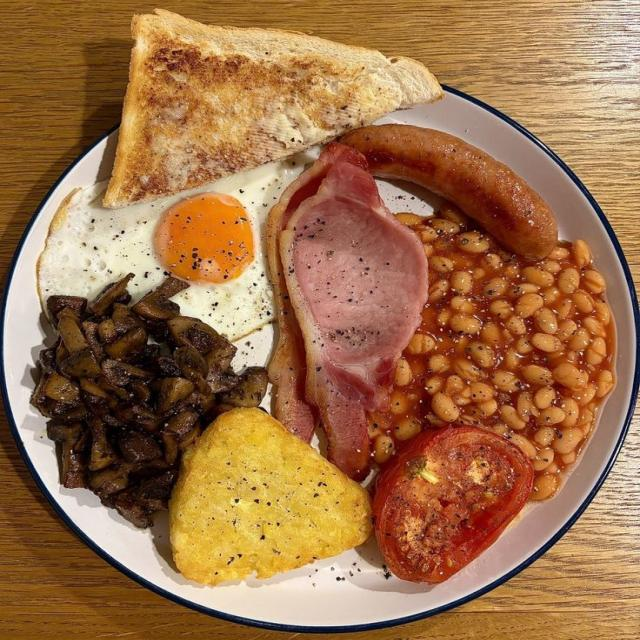beacon: (269, 144, 427, 479), (267, 180, 316, 442)
beans: (370, 206, 613, 499), (553, 363, 587, 390), (552, 427, 583, 454), (432, 393, 459, 422), (454, 358, 485, 382), (530, 473, 557, 500), (510, 434, 537, 460), (468, 342, 495, 368), (515, 293, 543, 317), (521, 365, 553, 386), (440, 204, 469, 227), (458, 232, 489, 253), (449, 314, 481, 334), (491, 370, 520, 392), (534, 308, 558, 334), (374, 434, 394, 464), (394, 418, 421, 440), (522, 267, 553, 286), (532, 333, 561, 353), (585, 338, 606, 365), (407, 334, 435, 354), (567, 327, 591, 350), (394, 358, 413, 386), (480, 323, 503, 346), (451, 271, 473, 295), (558, 268, 579, 293), (574, 383, 596, 406), (583, 270, 605, 293), (428, 279, 449, 303), (561, 398, 579, 426), (596, 370, 614, 398), (538, 407, 565, 425), (573, 240, 591, 267), (516, 392, 534, 419), (533, 448, 554, 471), (555, 320, 578, 341), (507, 283, 539, 298), (534, 387, 555, 409), (444, 375, 466, 396), (583, 317, 606, 337), (471, 382, 494, 402), (573, 290, 593, 313), (390, 391, 410, 414), (483, 278, 507, 297), (430, 218, 460, 233), (489, 300, 513, 318), (594, 301, 611, 326), (576, 409, 593, 434), (534, 427, 555, 447), (451, 296, 475, 313), (429, 256, 453, 273), (506, 316, 526, 336), (541, 286, 560, 306), (429, 355, 450, 373), (556, 298, 573, 319), (477, 399, 498, 416), (503, 349, 519, 371), (395, 213, 422, 226), (515, 337, 533, 355), (426, 376, 443, 395), (482, 253, 502, 269), (548, 246, 569, 260), (452, 391, 471, 406), (419, 228, 438, 243), (540, 260, 560, 274), (437, 309, 453, 326), (427, 413, 446, 427), (368, 417, 380, 439), (560, 450, 576, 465), (504, 264, 519, 278), (492, 424, 510, 435), (546, 460, 558, 474), (473, 268, 486, 279), (423, 244, 433, 258)
champignon mushrooms: (30, 274, 265, 527), (170, 408, 370, 585), (169, 316, 236, 377), (133, 276, 189, 320), (49, 423, 86, 487), (125, 470, 177, 511), (219, 367, 266, 407), (174, 347, 211, 394), (102, 359, 152, 387), (105, 327, 147, 360), (89, 421, 117, 470), (58, 309, 88, 354), (157, 377, 194, 412), (118, 431, 161, 461), (59, 347, 101, 377), (117, 404, 158, 431), (90, 466, 128, 495), (44, 373, 77, 402), (165, 411, 197, 440), (99, 318, 117, 342)
fryed egg: (37, 160, 299, 341)
potatoe chip: (170, 408, 370, 585)
sausage: (338, 124, 557, 258)
sliced tomatoe: (373, 425, 533, 583)
toast bread: (103, 9, 442, 208)
